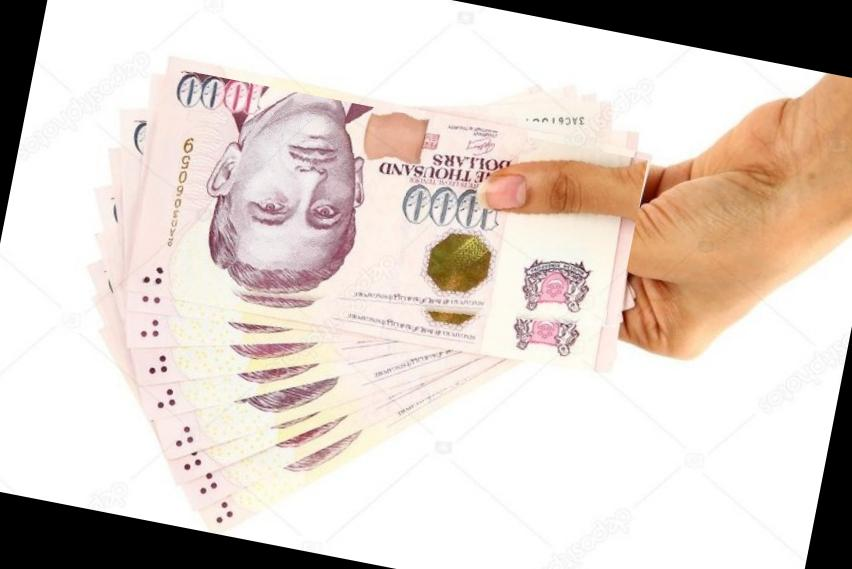1000SingaporeDollar: (137, 69, 648, 376)
